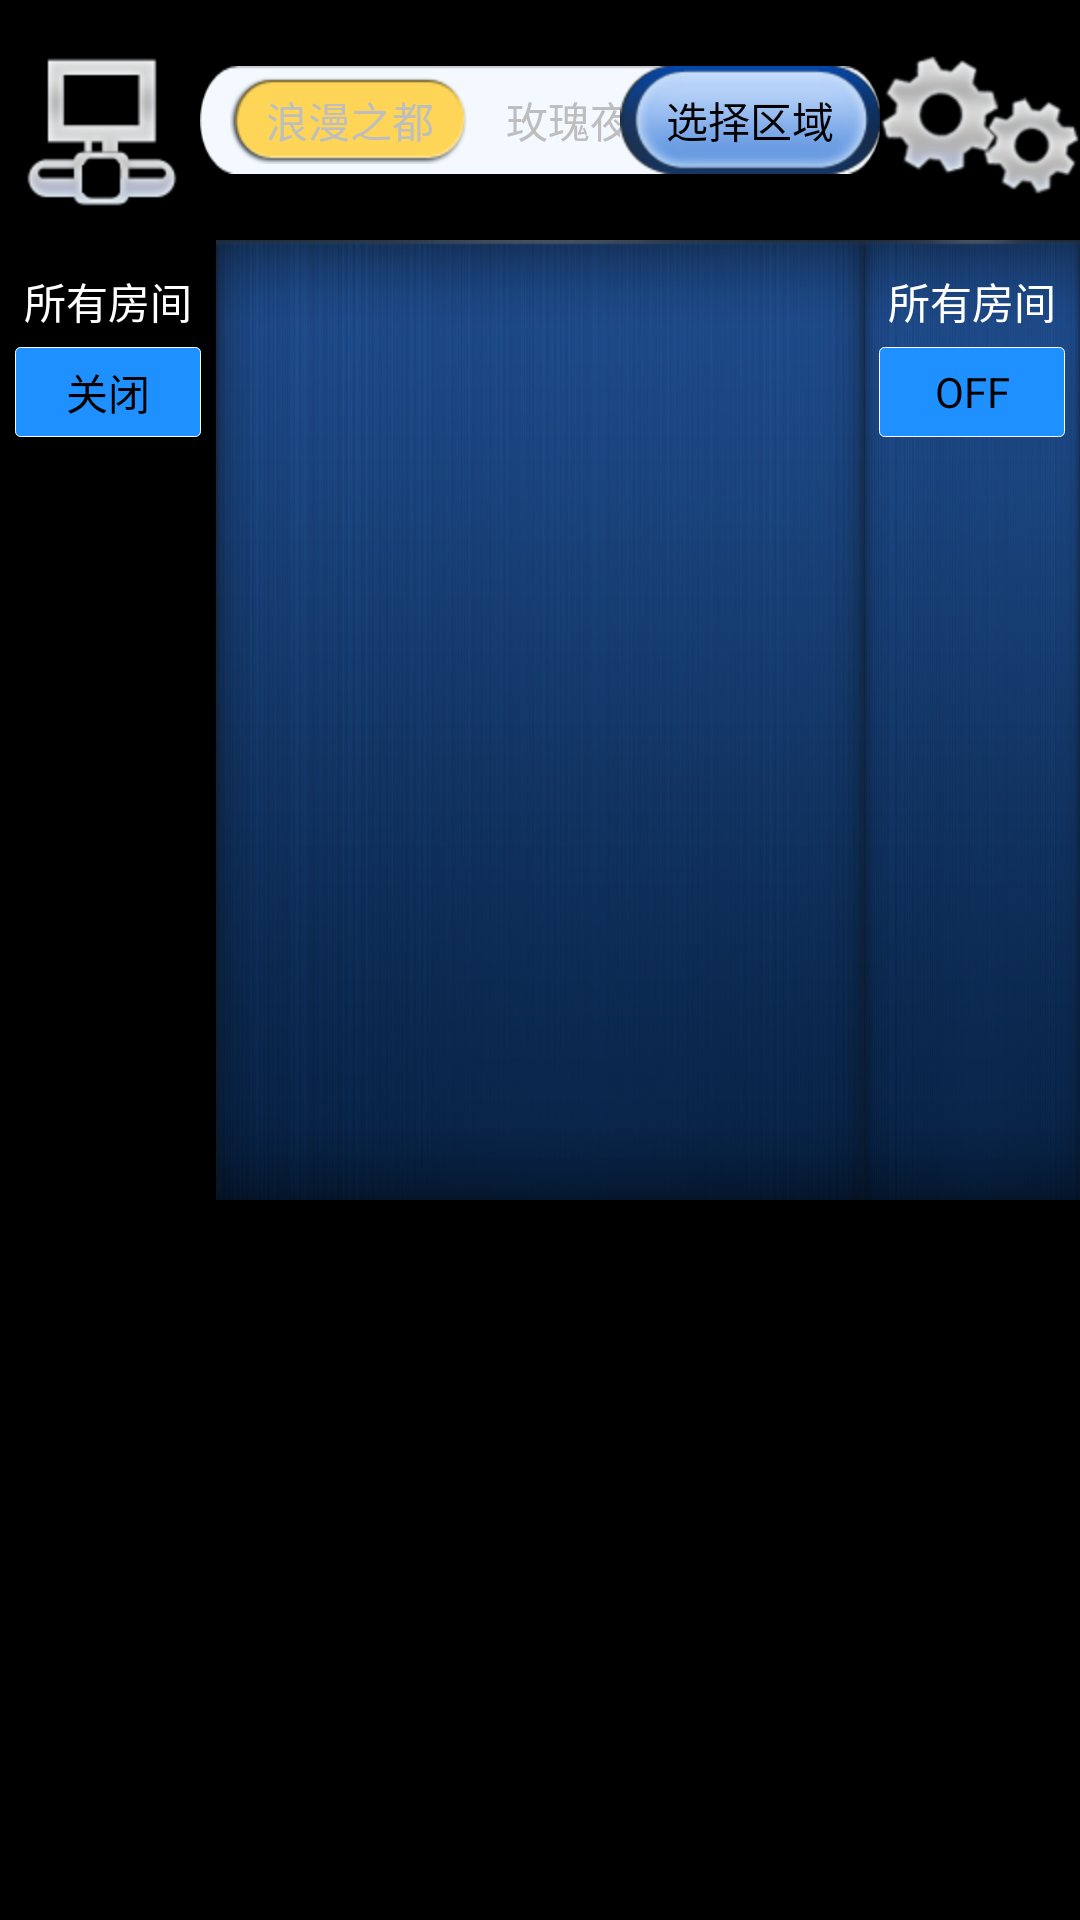

Icons on this 1080px x 1920px Android screen, each with the point to tap as (x,y):
device: (102,132)
setting: (980,125)
